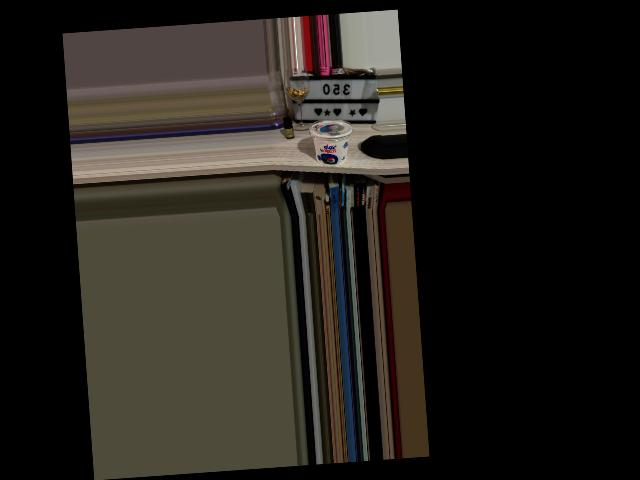cotage: (312, 116, 351, 168)
